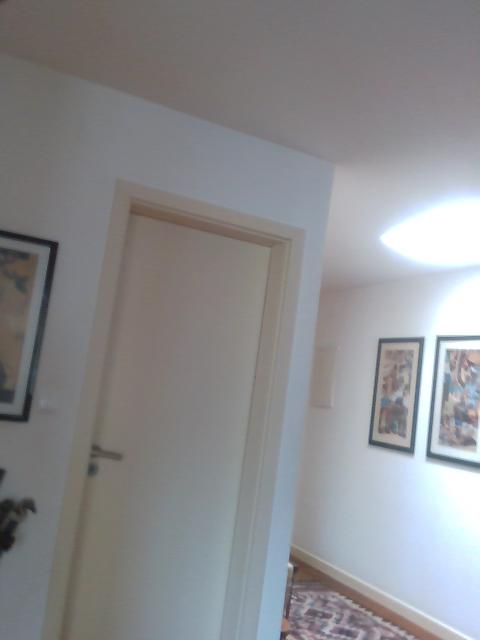door: (65, 207, 274, 640)
